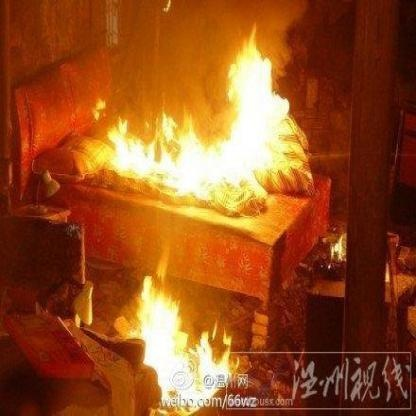fire: (79, 23, 323, 228), (101, 242, 232, 416)
